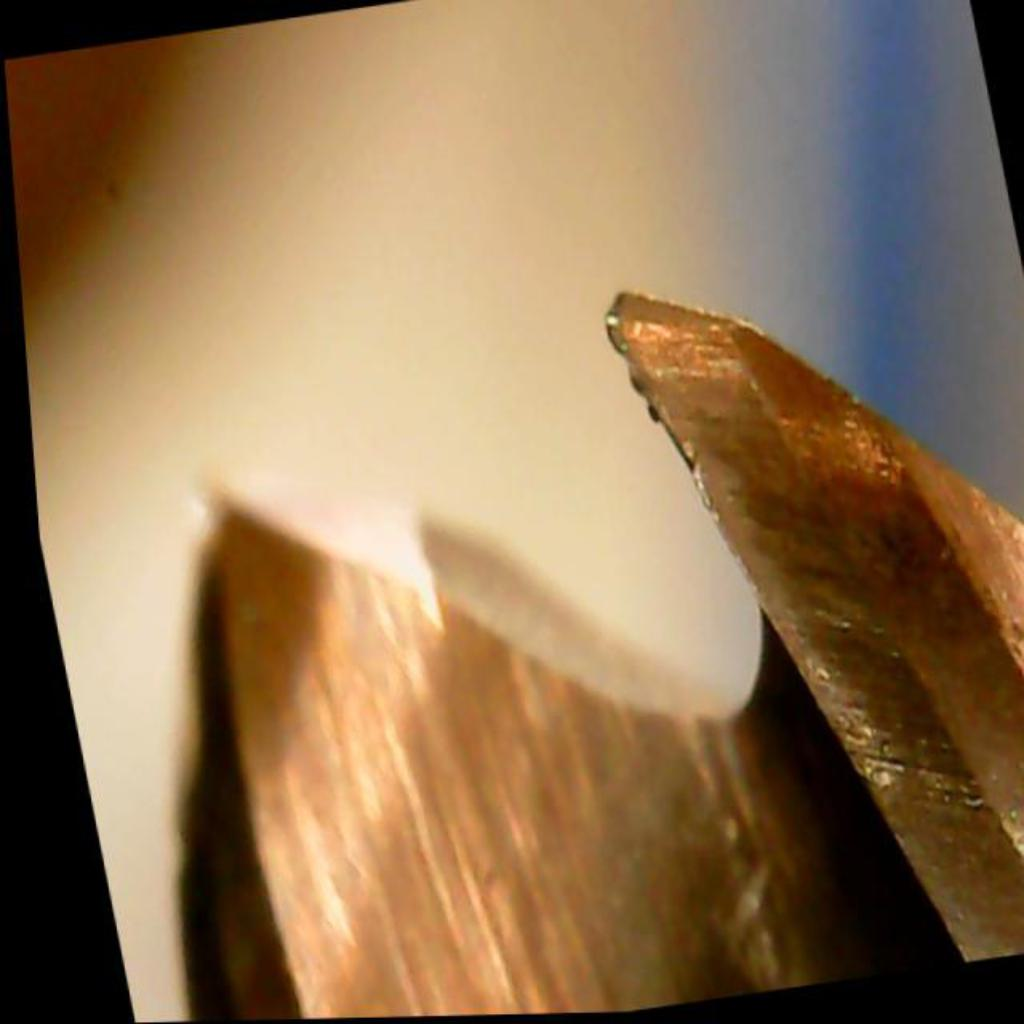Tool-wear-class-1: (523, 242, 954, 673)
